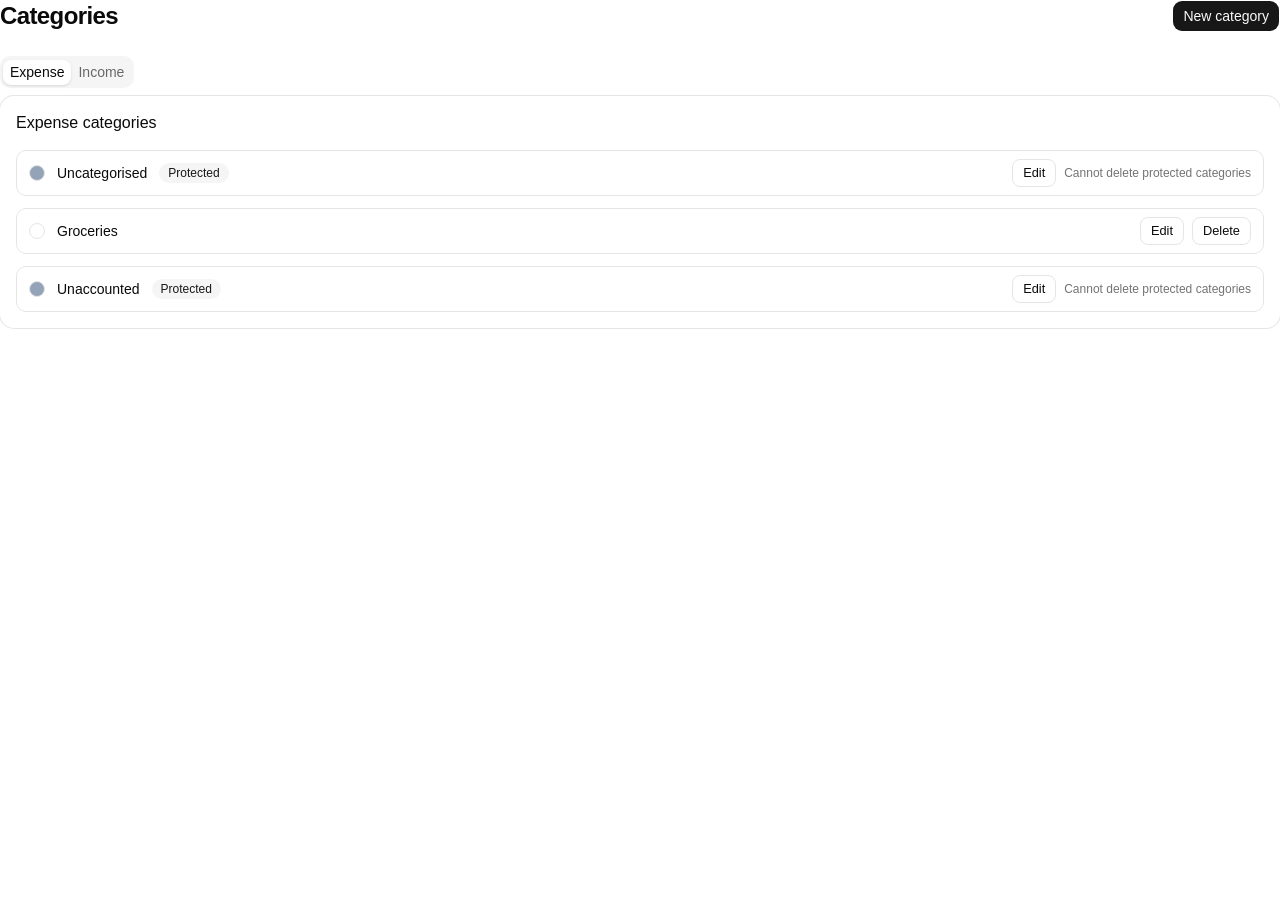
Test: CategoriesPage › confirms delete and mentions Uncategorised
This screenshot has width=1280, height=900.
Click the button "Delete". click: point(1222, 231)
box: [1192,217,1251,245]
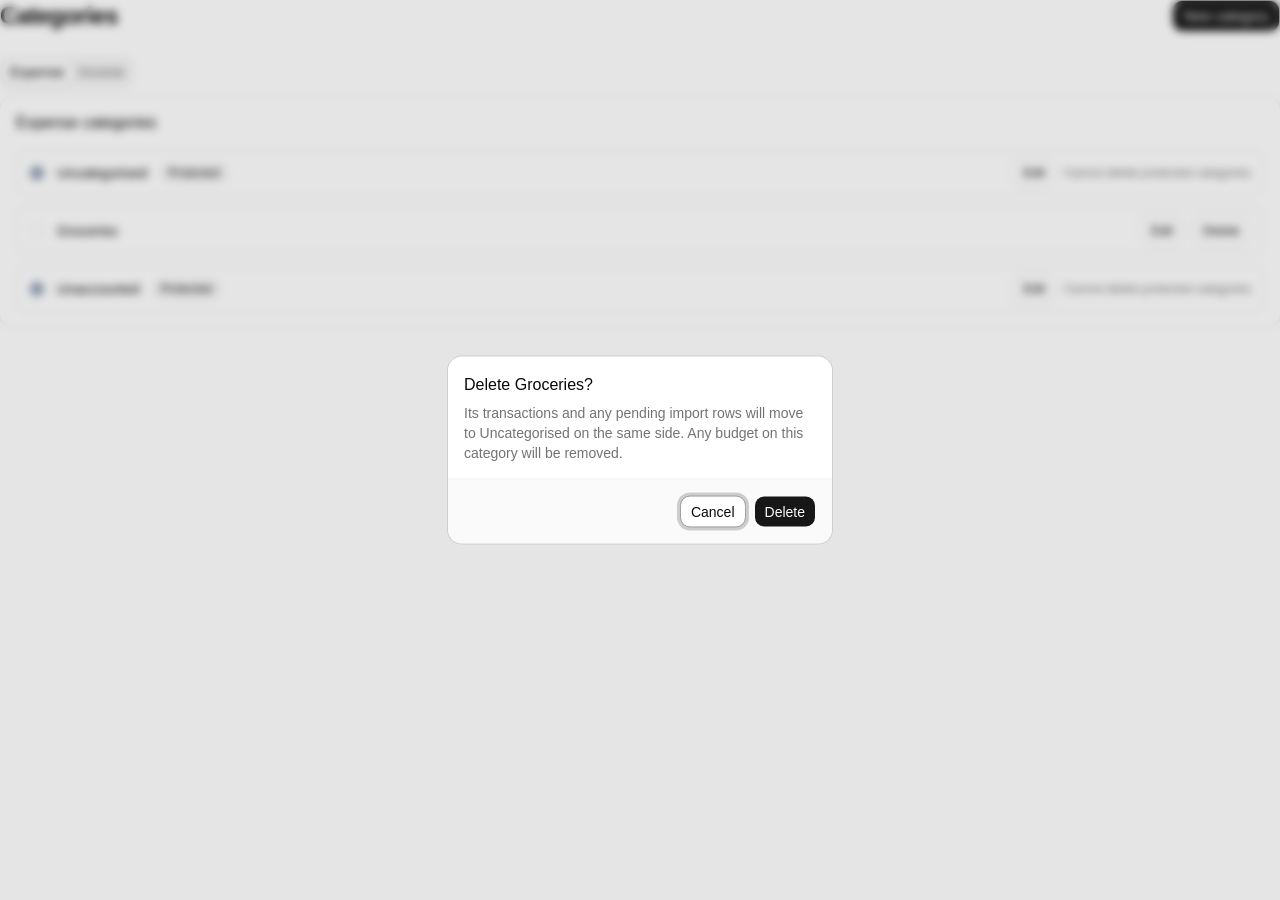
Check: the text "move to uncategorised on the same side" is shown, box [464,404,803,460]
Click the button "Delete". click: point(785, 512)
box: [754,496,816,528]
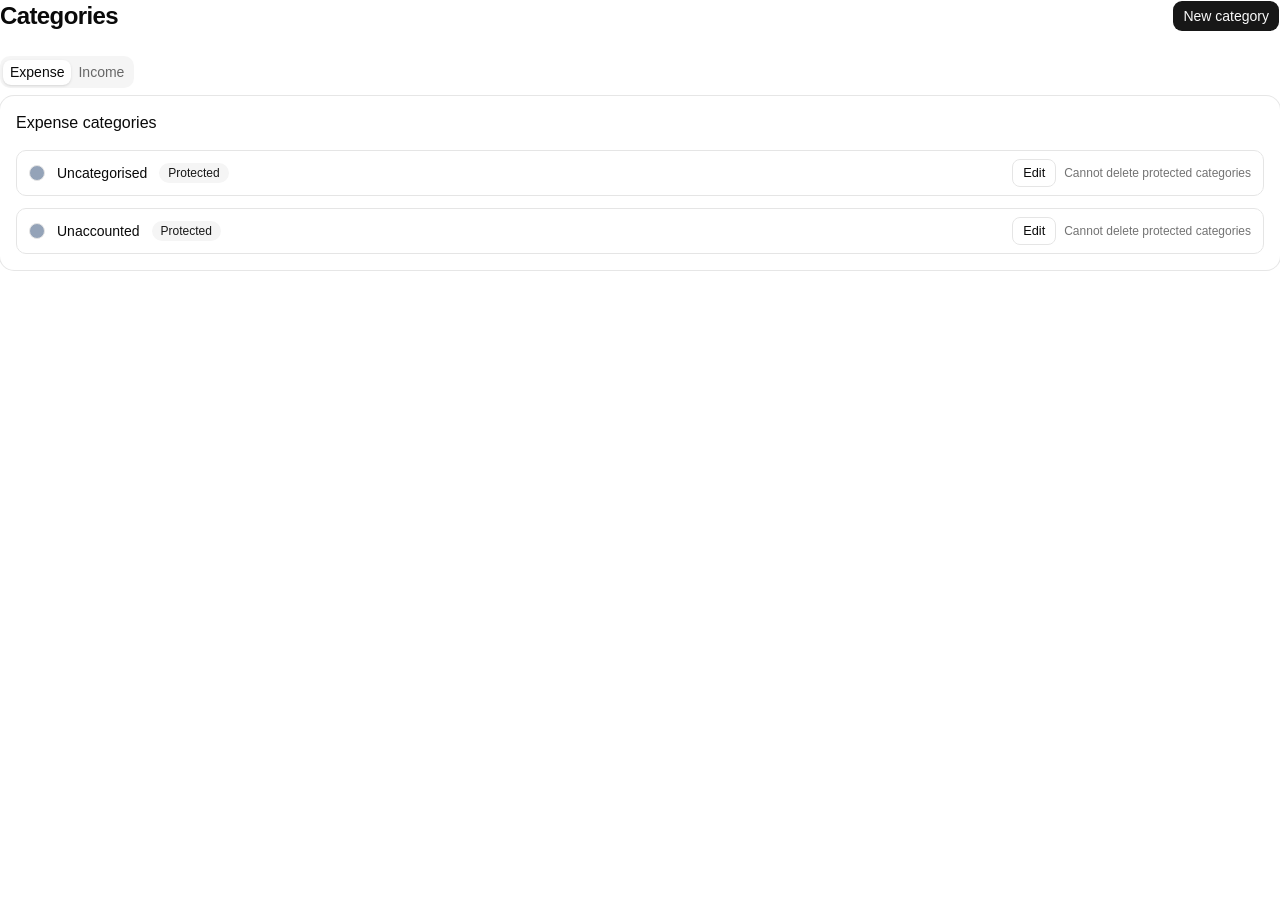
Check: the text "Groceries" is gone
